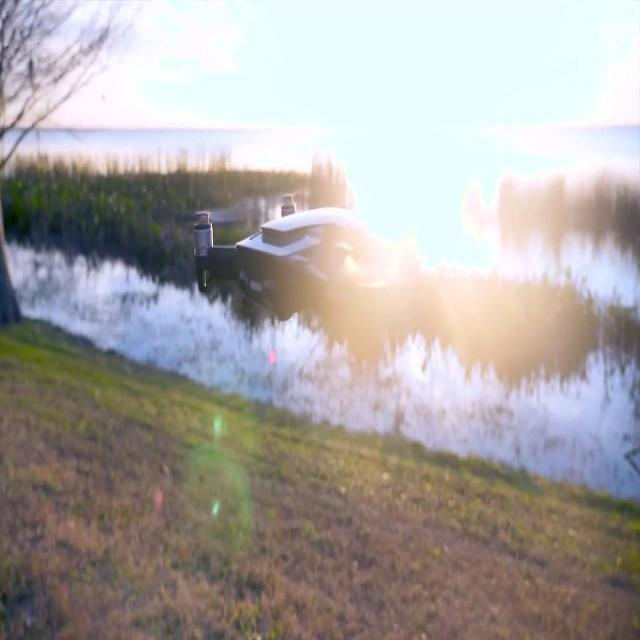UAV: (189, 193, 387, 322)
